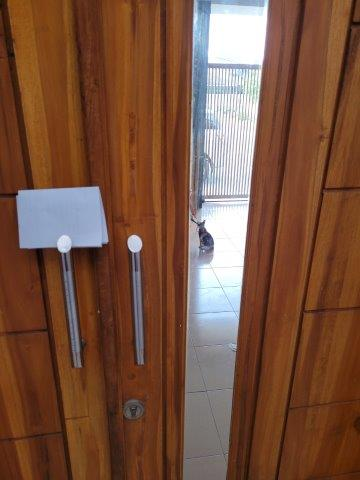kertas: (15, 188, 108, 248)
